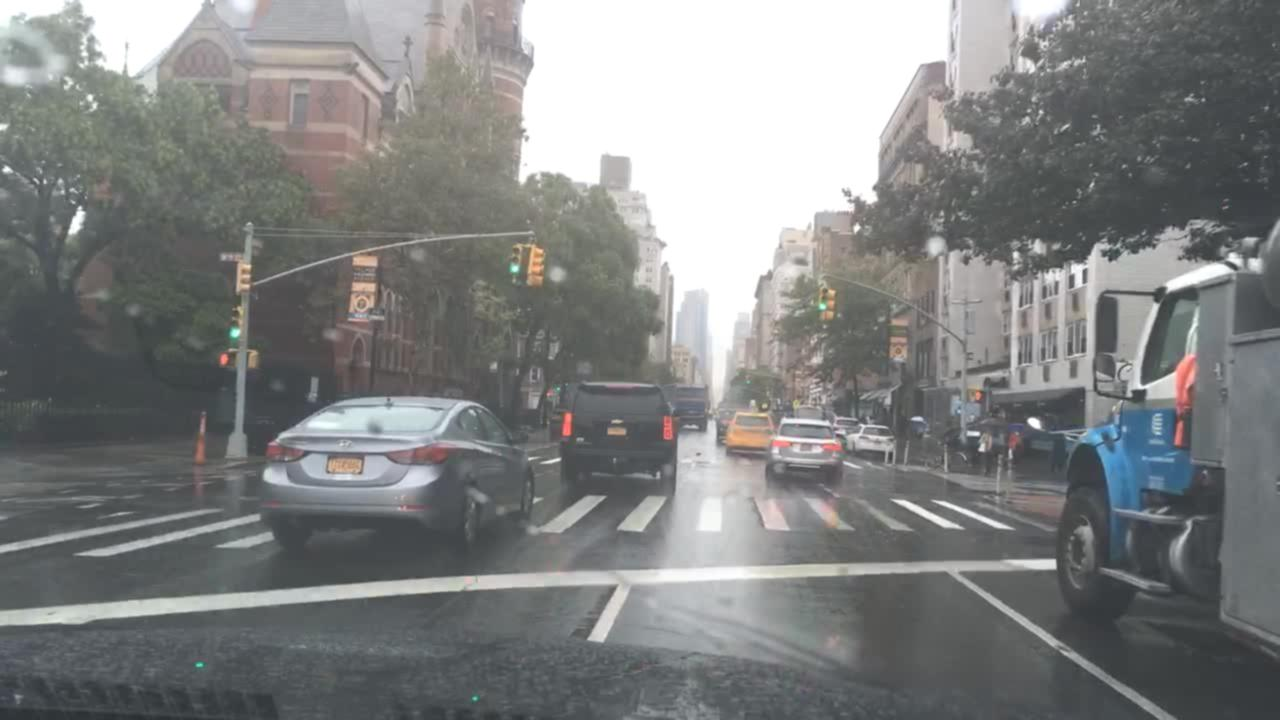Hyundai: (330, 435, 361, 453)
